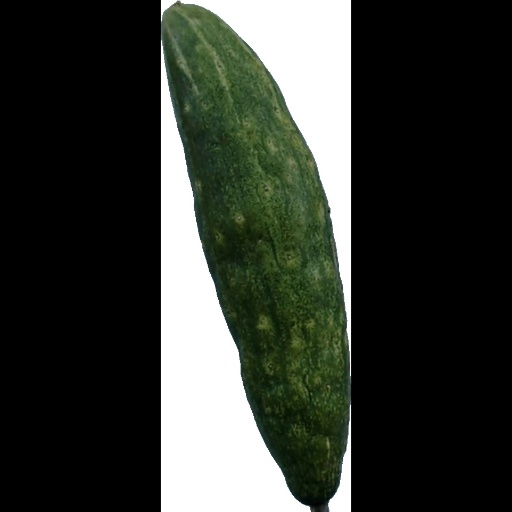concombre: (161, 1, 350, 512)
